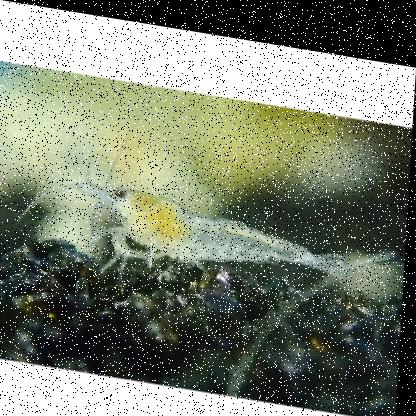shrimp: (73, 174, 351, 294)
